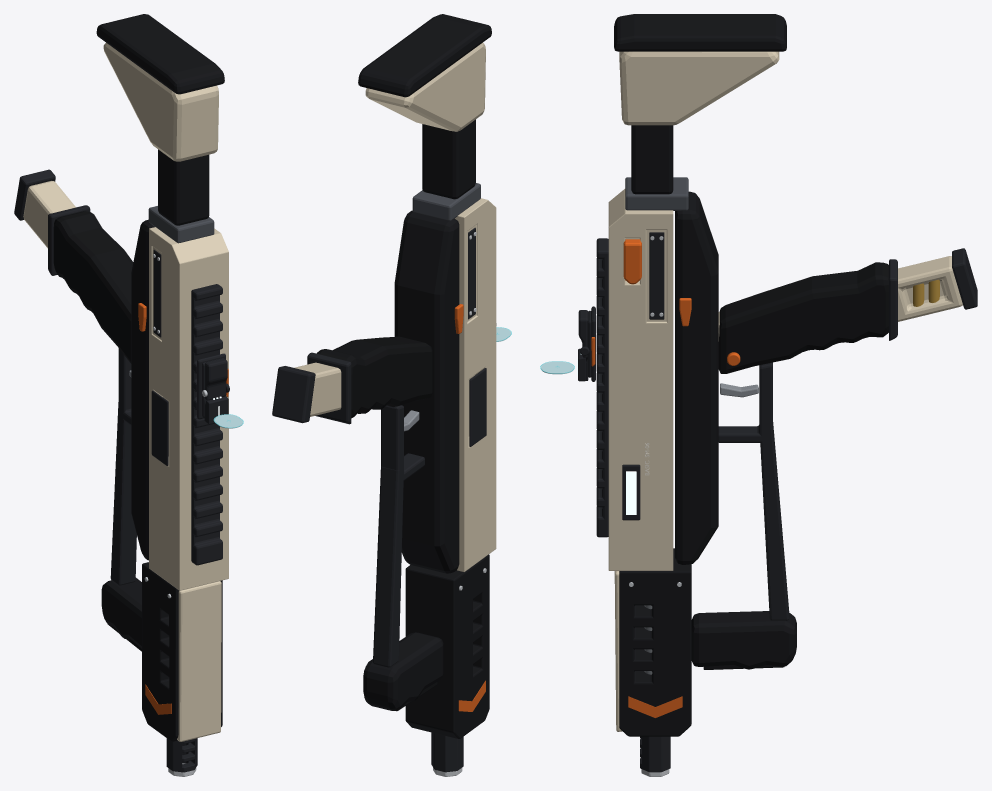
Rendered from BASIC-06-v2.1.fbx.
The picture shows the model from 3 angles, left to right: view 1: azimuth 30°, elevation 25°; view 2: azimuth 150°, elevation 25°; view 3: azimuth 270°, elevation 25°; orthographic projection. The views are drawn at different scales.
Visible parts, largest first — view 1: upper, grip, rail, shroud_cap, stock, shroud, lower, butt_pad, stock_spine, loop, foregrip, magazine (+10 smaller); view 2: lower, upper, shroud, grip, butt_pad, stock, loop, foregrip, stock_spine, magazine_base, trigger_guard, magazine (+5 smaller); view 3: upper, lower, grip, shroud, stock, butt_pad, foregrip, rail, loop, stock_spine, magazine, trigger_guard (+6 smaller).
Part boxes in pixels (box(x1,y1,x2,y2)): upper: box(149, 227, 228, 590); grip: box(53, 211, 133, 363); rail: box(191, 284, 222, 565); shroud_cap: box(177, 581, 221, 741); stock: box(103, 42, 218, 161); shroud: box(142, 562, 222, 741); lower: box(131, 219, 154, 560); butt_pad: box(96, 14, 224, 94); stock_spine: box(158, 149, 209, 225); loop: box(110, 402, 136, 585); foregrip: box(101, 577, 141, 648); magazine: box(23, 181, 75, 248); lower: box(394, 210, 459, 573); upper: box(455, 198, 496, 571); shroud: box(405, 554, 489, 738); grip: box(316, 336, 432, 418); butt_pad: box(358, 14, 491, 97); stock: box(365, 42, 485, 131); loop: box(373, 466, 403, 667); foregrip: box(363, 632, 443, 710); stock_spine: box(422, 119, 475, 199); magazine_base: box(272, 366, 315, 423); trigger_guard: box(381, 405, 424, 482); magazine: box(294, 362, 341, 416); upper: box(608, 189, 673, 570); lower: box(675, 191, 718, 564); grip: box(718, 262, 888, 373); shroud: box(619, 548, 691, 736); stock: box(619, 51, 779, 125); butt_pad: box(614, 14, 786, 51); foregrip: box(691, 611, 796, 669); rail: box(596, 238, 608, 537); loop: box(760, 422, 789, 620); stock_spine: box(631, 125, 673, 194); magazine: box(718, 256, 962, 341); trigger_guard: box(718, 362, 772, 442).
Size of the model in its own units: 0.047 by 0.5469 by 0.2906.
